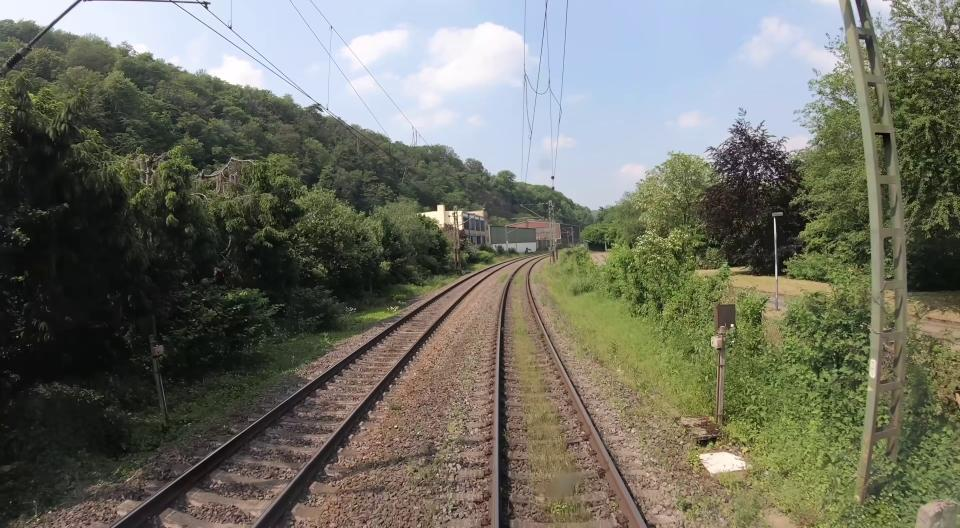Plant: (544, 265, 715, 416), (510, 290, 596, 528), (725, 420, 824, 528), (718, 474, 766, 528), (678, 497, 711, 524), (389, 403, 402, 411), (498, 274, 508, 283)
